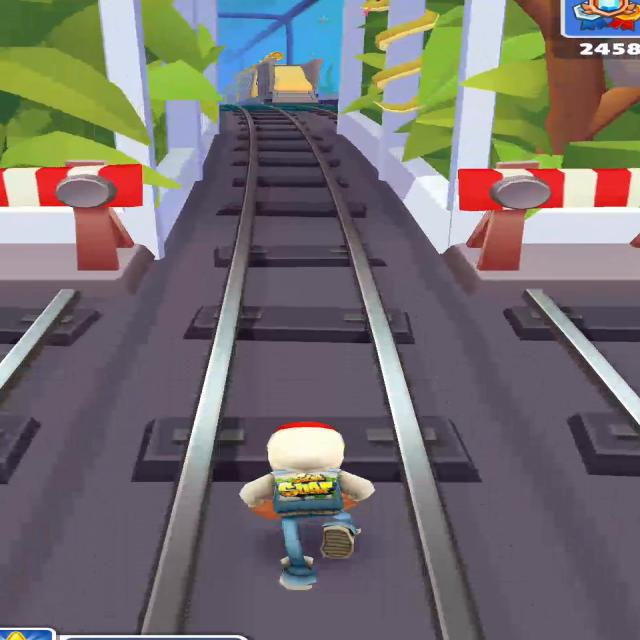block pillar: (345, 0, 626, 279), (0, 0, 238, 289)
